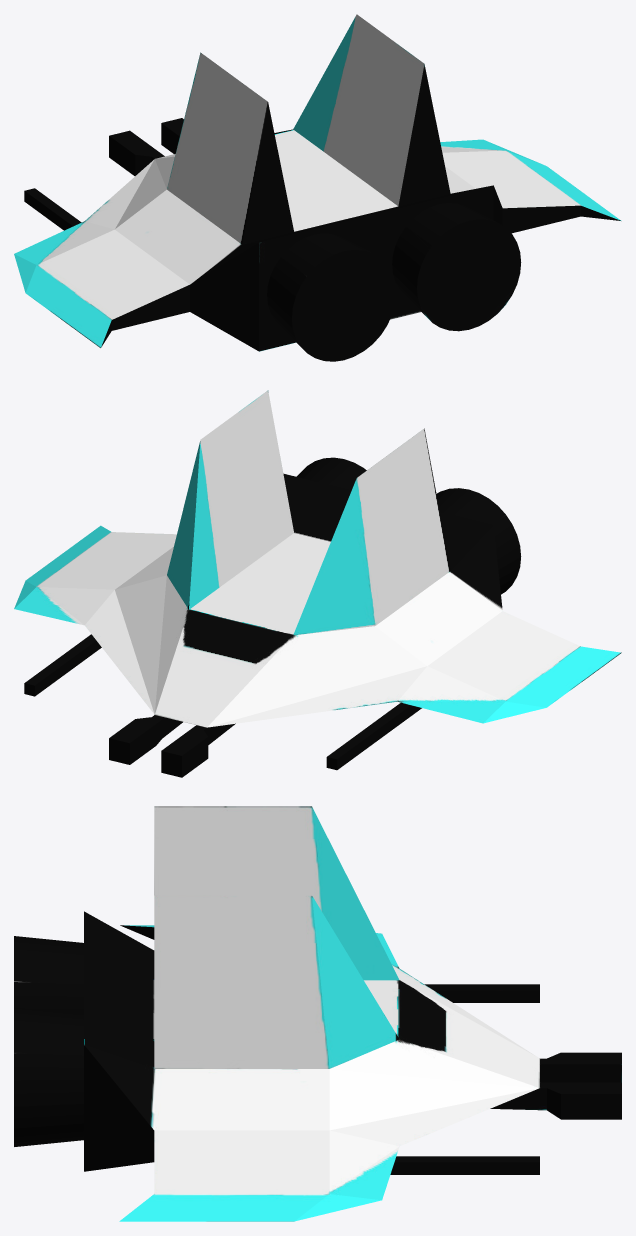
The model's file is starship.obj.
3 views of the same model, one above another, from view 1: azimuth 30°, elevation 25°; view 2: azimuth 150°, elevation 25°; view 3: azimuth 270°, elevation 25° (orthographic). The views are drawn at different scales.
Visible parts, largest first — view 1: Plane; view 2: Plane; view 3: Plane.
Part boxes in pixels (<box>): Plane: <box>14,14,621,361</box>; Plane: <box>14,390,621,777</box>; Plane: <box>14,806,621,1221</box>.
Size of the model in its own units: 10 by 4 by 8.67.
Materials: 1 (1 with a texture image).
